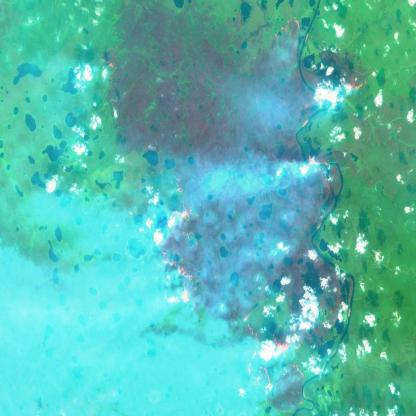fire: (158, 170, 311, 416), (270, 7, 373, 112), (96, 39, 126, 84)
